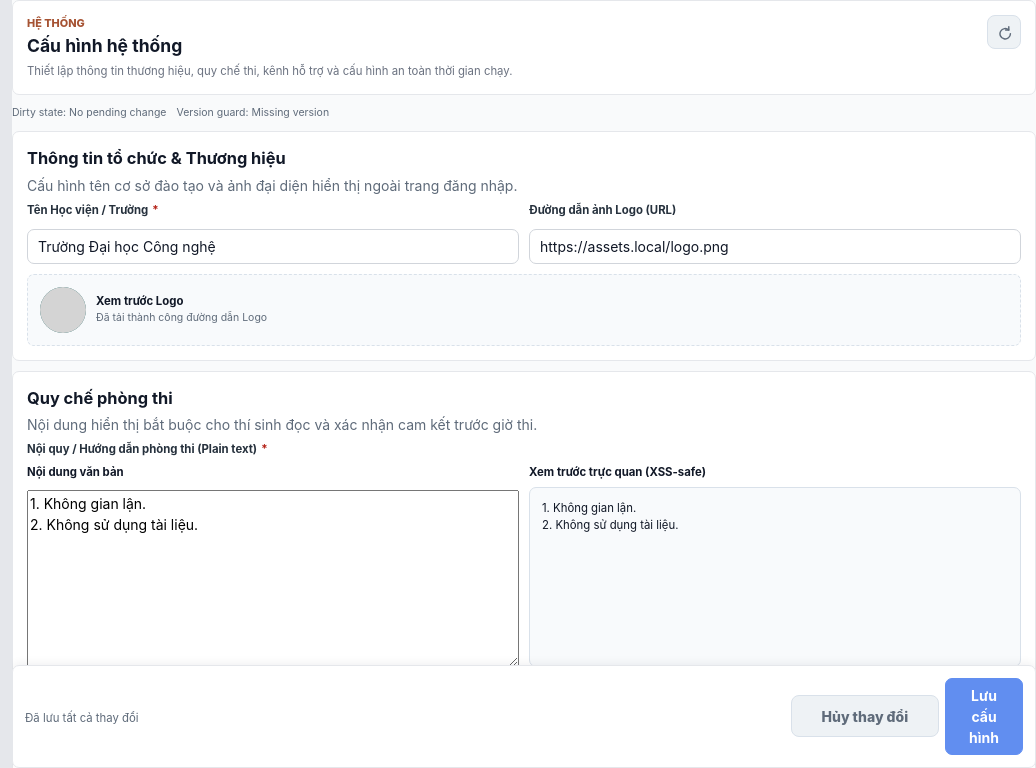
SettingsPage UI and validations › Missing version blocks save in real API mode
// Make the form dirty to enable the save button
Replace the text in the field labelled "Tên Học viện / Trường *" with "New Academy" at (273, 246), box [27, 229, 519, 264]
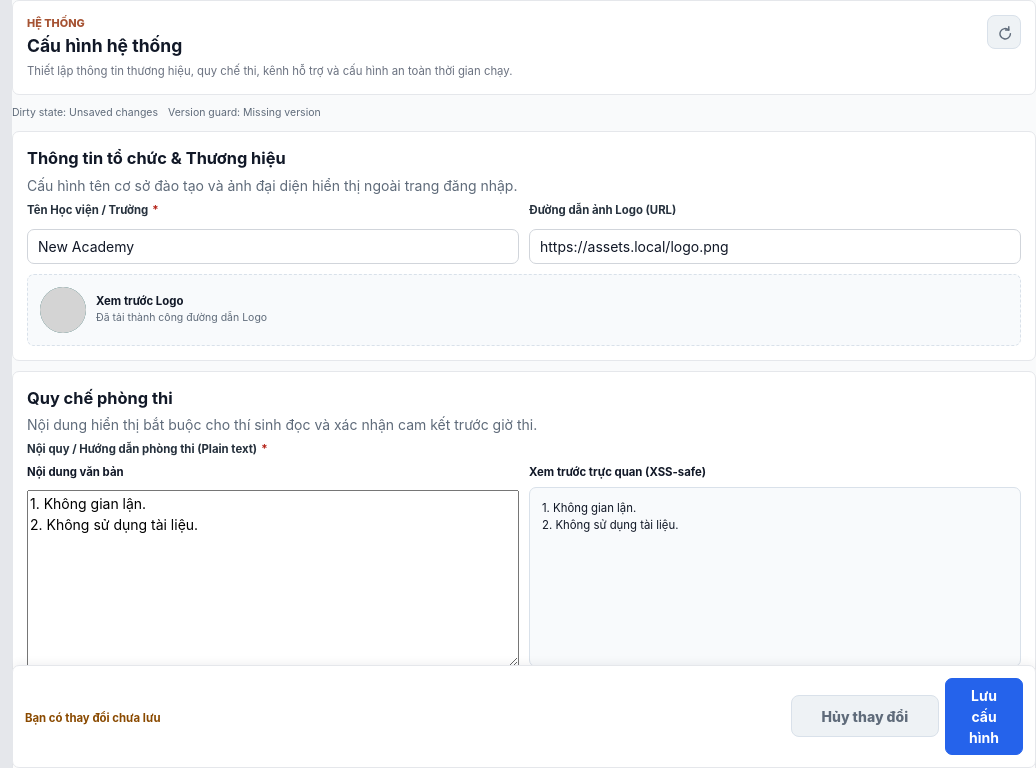
Click the button "Lưu cấu hình" at (984, 716), box [945, 678, 1023, 755]
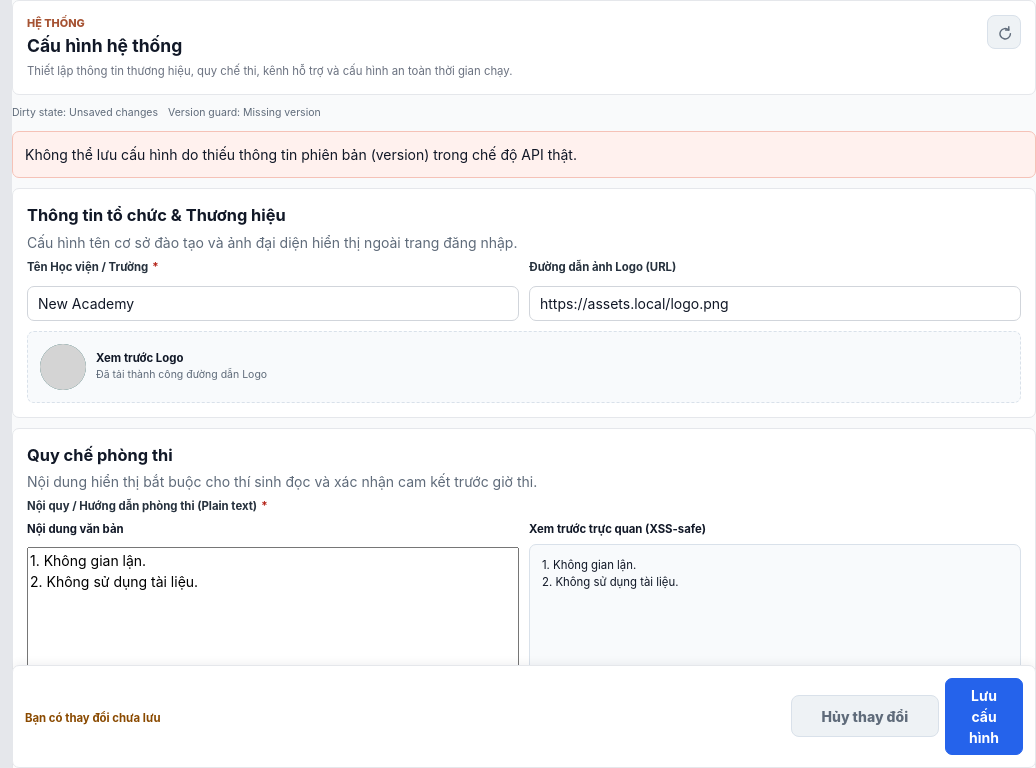
Expected: the text "Không thể lưu cấu hình do thiếu thông tin phiên bản (version) trong chế độ API thật." is shown, [25, 146, 577, 163]
